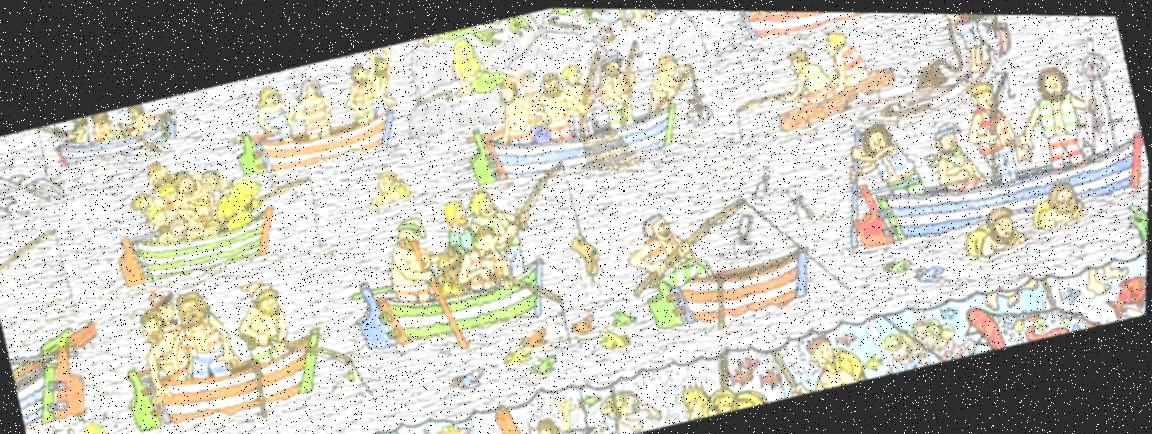waldo: (511, 57, 540, 93)
